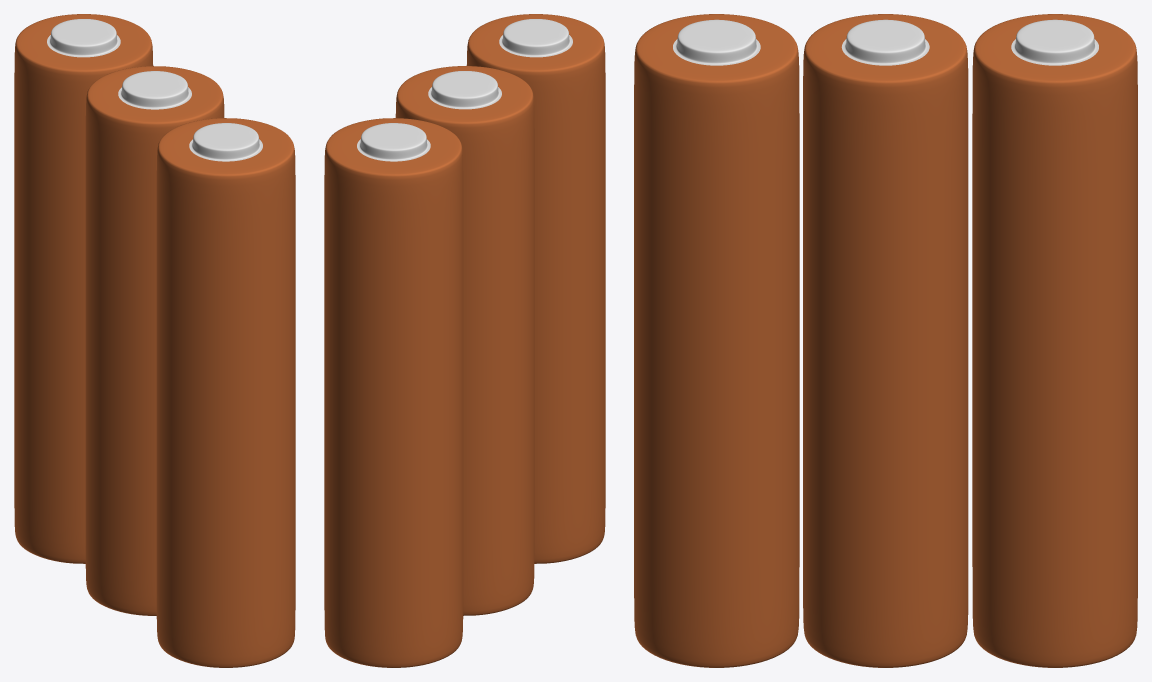
File: batteries.fbx
3 renders of one model, left to right at view 1: azimuth 30°, elevation 25°; view 2: azimuth 150°, elevation 25°; view 3: azimuth 270°, elevation 25°, orthographic. The views are drawn at different scales.
Parts seen in each view (by area): view 1: Cylinder.002; view 2: Cylinder.002; view 3: Cylinder.002.
Part boxes in pixels (<box>): Cylinder.002: <box>14,14,295,667</box>; Cylinder.002: <box>324,14,605,667</box>; Cylinder.002: <box>634,14,1137,667</box>.
Size of the model in its own units: 180 by 722 by 550.
